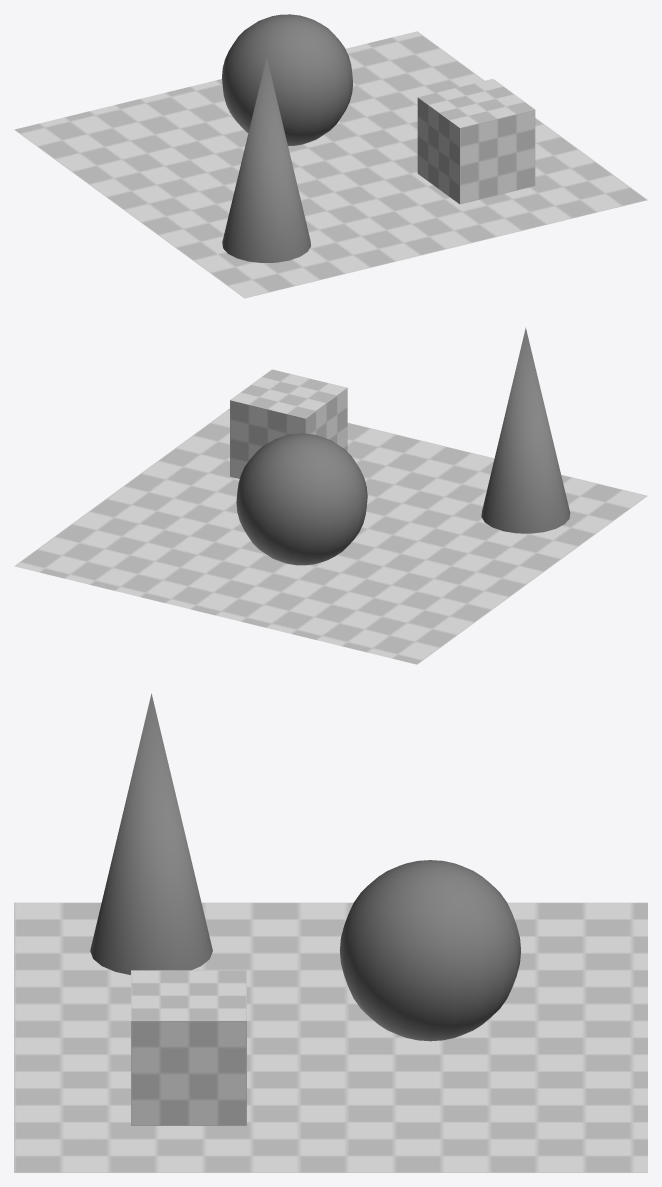
3 views of the same model, one above another, from view 1: azimuth 30°, elevation 25°; view 2: azimuth 150°, elevation 25°; view 3: azimuth 270°, elevation 25° (orthographic). The views are drawn at different scales.
Visible parts, largest first — view 1: MyPlane scene01 scene00, scene01 scene00 MyCube AllObjects, scene01 scene00 AllObjects pSphere1, scene01 scene00 AllObjects pCone1; view 2: MyPlane scene01 scene00, scene01 scene00 AllObjects pSphere1, scene01 scene00 AllObjects pCone1, scene01 scene00 MyCube AllObjects; view 3: MyPlane scene01 scene00, scene01 scene00 AllObjects pSphere1, scene01 scene00 AllObjects pCone1, scene01 scene00 MyCube AllObjects.
Part boxes in pixels (left/top/right/bottom): MyPlane scene01 scene00: left=14, top=31, right=647, bottom=298; scene01 scene00 MyCube AllObjects: left=417, top=79, right=535, bottom=204; scene01 scene00 AllObjects pSphere1: left=222, top=14, right=352, bottom=145; scene01 scene00 AllObjects pCone1: left=222, top=57, right=310, bottom=262; MyPlane scene01 scene00: left=14, top=408, right=647, bottom=664; scene01 scene00 AllObjects pSphere1: left=236, top=433, right=367, bottom=565; scene01 scene00 AllObjects pCone1: left=481, top=327, right=570, bottom=533; scene01 scene00 MyCube AllObjects: left=230, top=369, right=347, bottom=478; MyPlane scene01 scene00: left=14, top=902, right=647, bottom=1172; scene01 scene00 AllObjects pSphere1: left=339, top=860, right=520, bottom=1041; scene01 scene00 AllObjects pCone1: left=90, top=693, right=212, bottom=974; scene01 scene00 MyCube AllObjects: left=131, top=970, right=246, bottom=1125.
Bounding box in the file's own units: 19.47 × 8.66 × 19.29.
2 materials, 1 textured.
